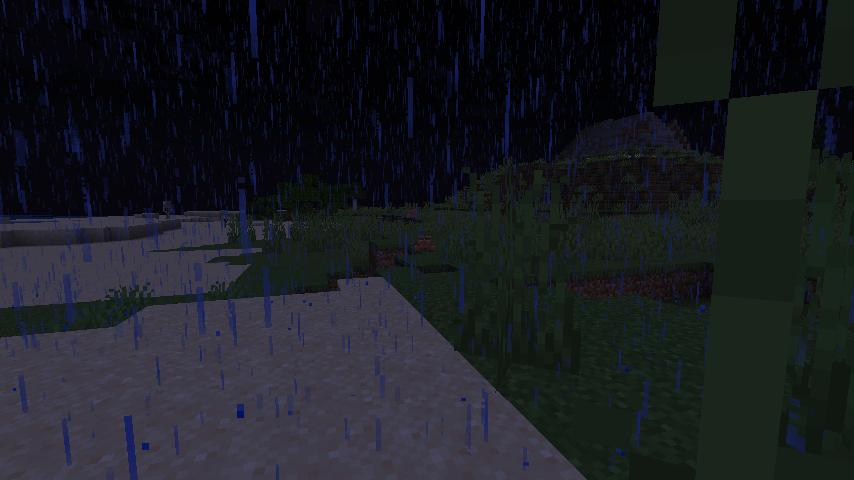frog: (414, 233, 438, 253)
pig: (407, 208, 419, 218)
skeleton: (160, 199, 174, 221), (217, 208, 230, 229)
